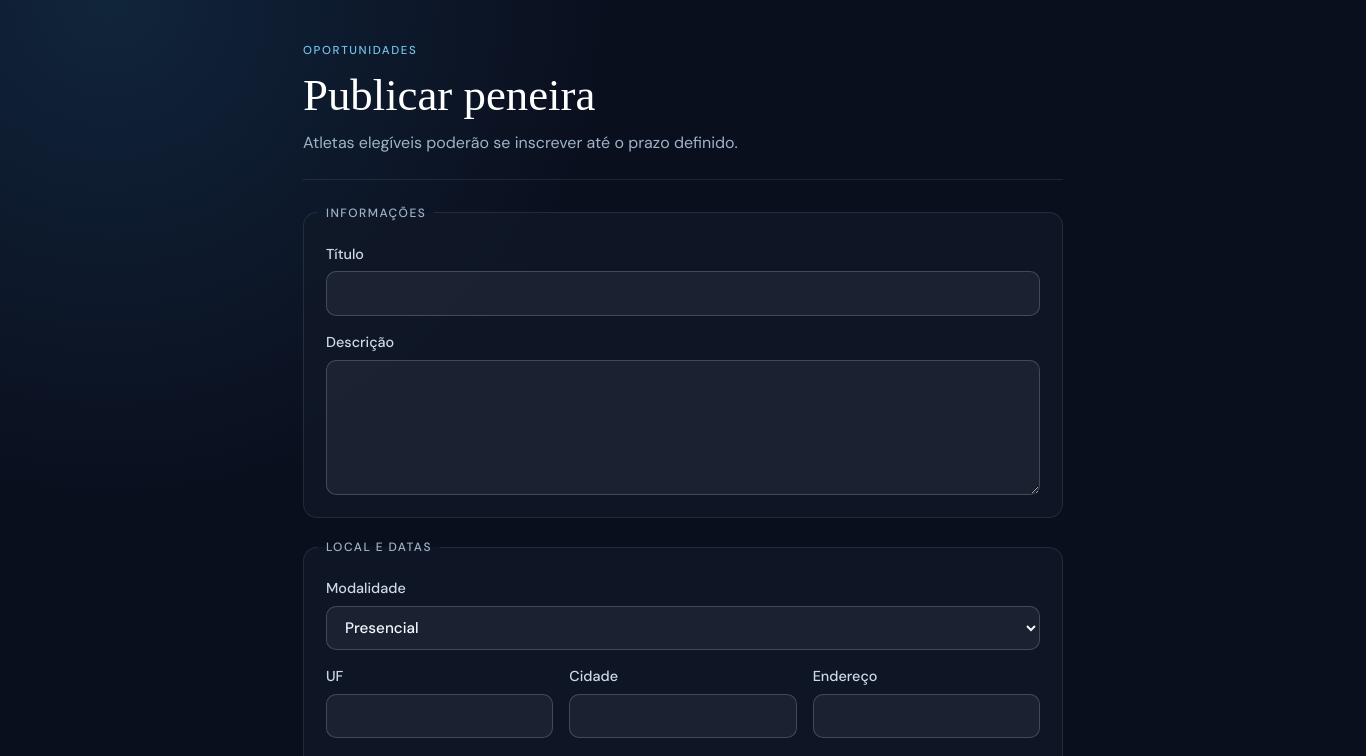
Test: OpportunityForm › online troca os campos de local pelo link e envia POST
Later steps or results of the test are not shown.
Type "Peneira Sub-17" into the field labelled "Título" at (683, 294), box [326,271,1040,316]
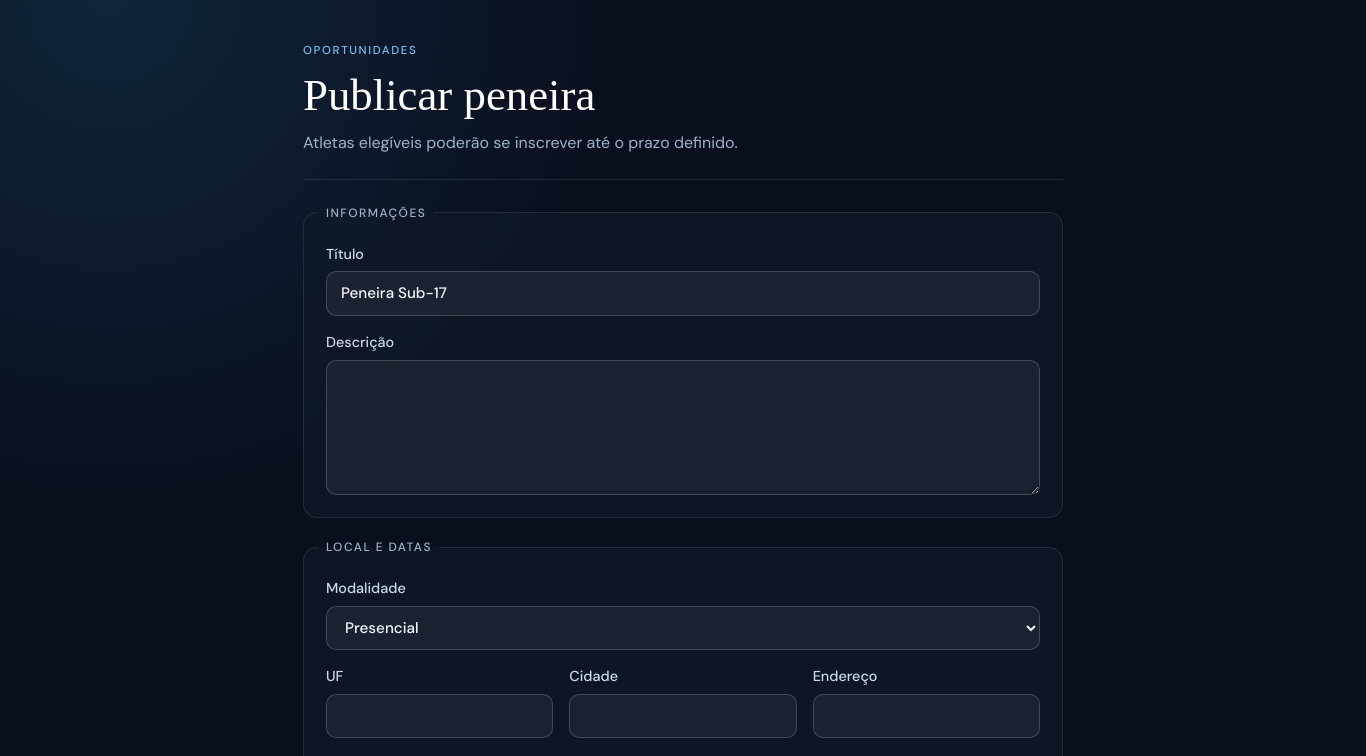
Type "Avaliação" into the text box labelled "Descrição" at (683, 427), box [326,360,1040,495]
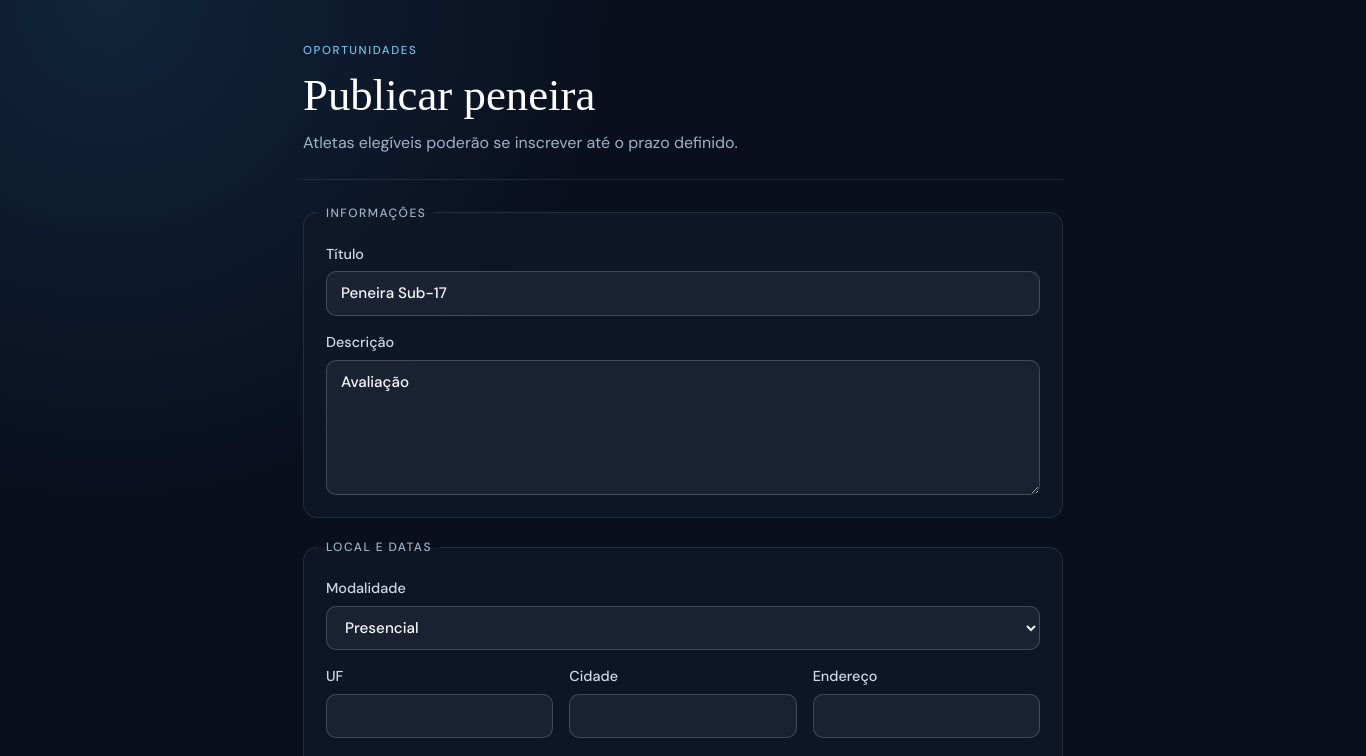
Select "Online" in the dropdown labelled "Modalidade" at (683, 628), box [326,606,1040,650]
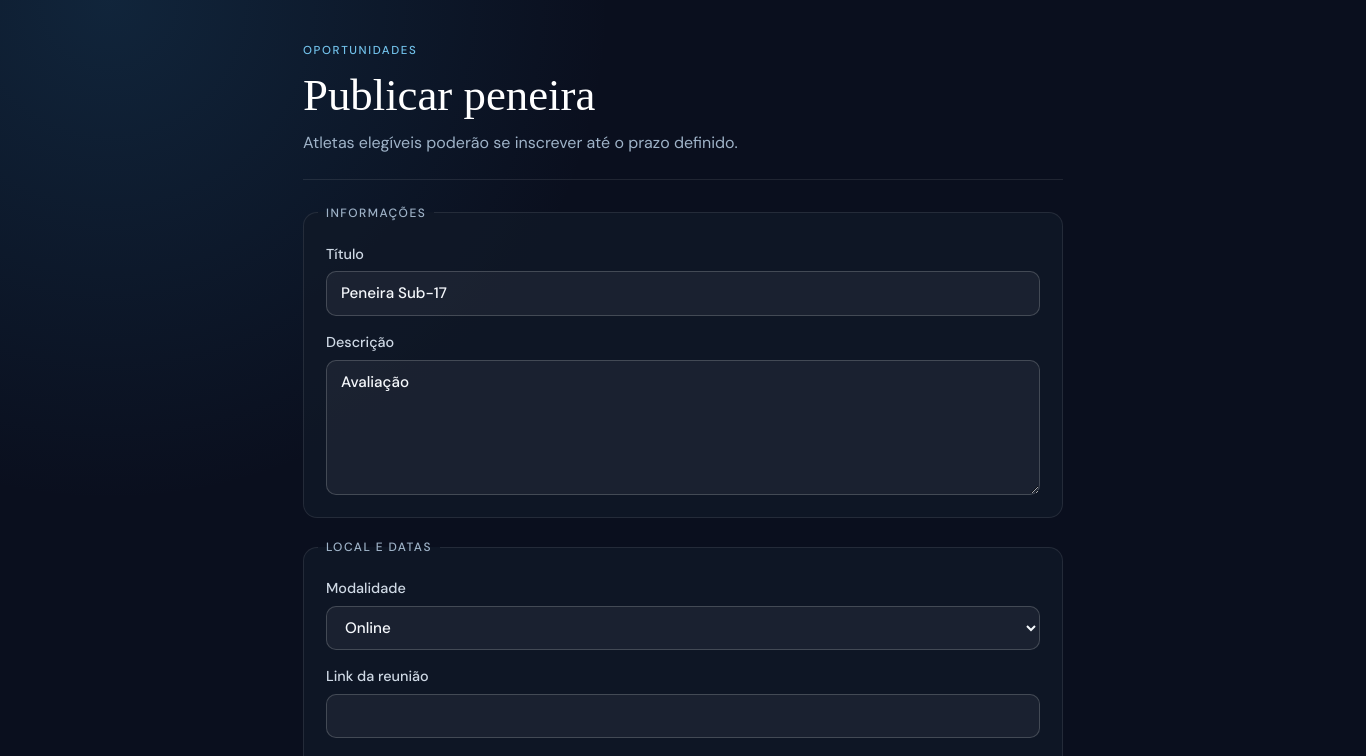
Expected: the label labelled "Endereço" is gone
